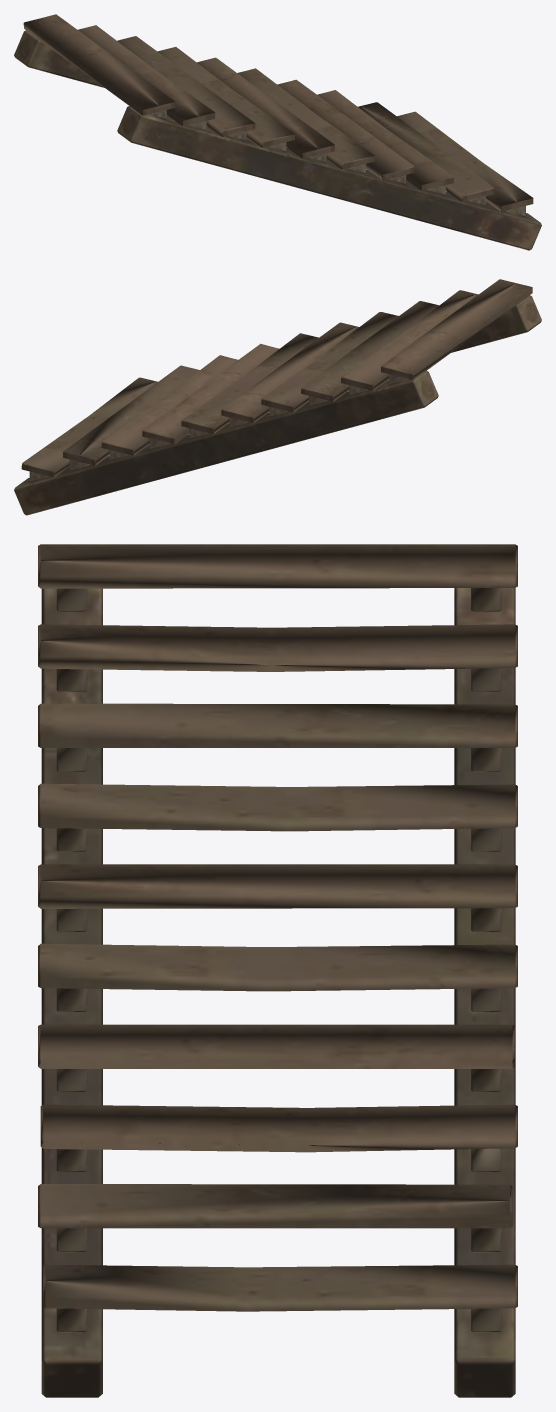
File: foundation.steps.frontier.glb
3 views of the same model, one above another, from view 1: azimuth 30°, elevation 25°; view 2: azimuth 150°, elevation 25°; view 3: azimuth 270°, elevation 25° (orthographic). The views are drawn at different scales.
Parts seen in each view (by area): view 1: model; view 2: model; view 3: model.
Boxes of the visible parts, left/top/right/bottom form: model: left=14, top=14, right=541, bottom=250; model: left=14, top=279, right=541, bottom=515; model: left=38, top=544, right=517, bottom=1397.
Bounding box in the file's own units: 3.1 × 1.71 × 1.56.
Materials: 1 (1 with a texture image).
